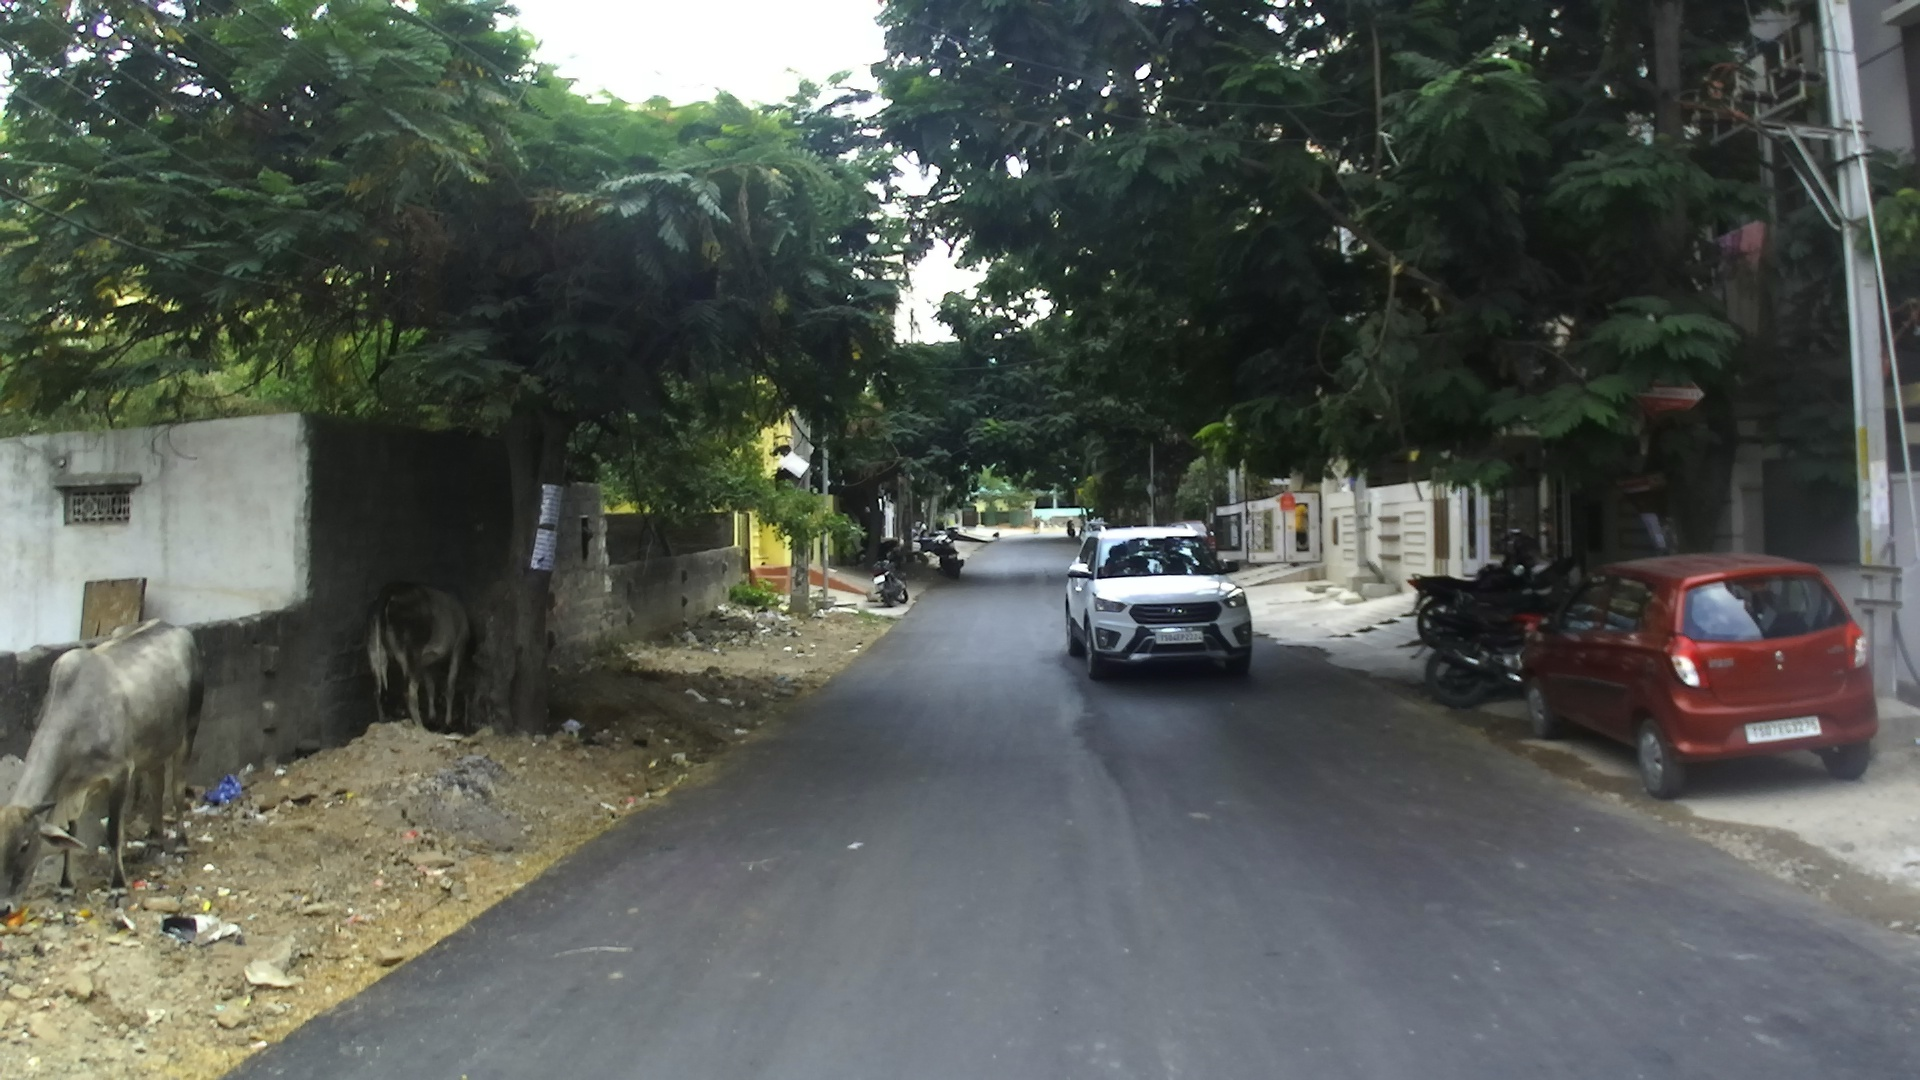vehicle: (0, 406, 566, 905), (1515, 549, 1882, 799), (1063, 529, 1254, 680), (1412, 551, 1592, 705), (913, 530, 959, 574)
